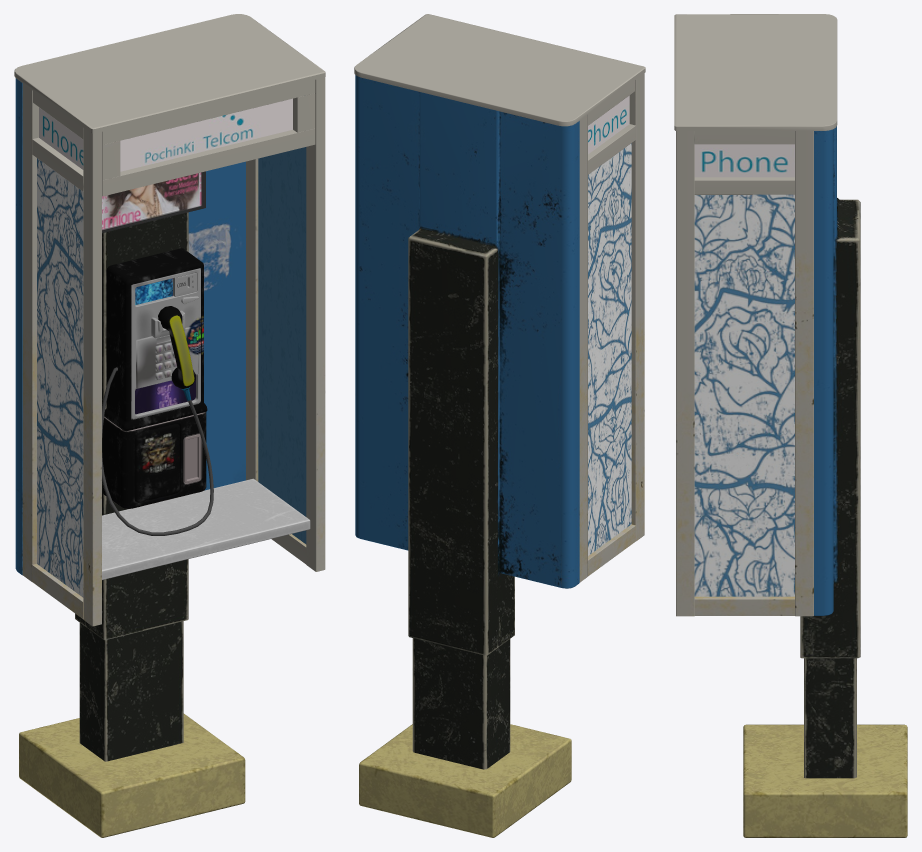
The model's file is phonebox.glb.
The picture shows the model from 3 angles, left to right: view 1: azimuth 30°, elevation 25°; view 2: azimuth 150°, elevation 25°; view 3: azimuth 270°, elevation 25°; orthographic projection. The views are drawn at different scales.
Visible parts, largest first — view 1: polySurface54; view 2: polySurface54; view 3: polySurface54.
Boxes of the visible parts, x1,y1,x2,y2 form: polySurface54: (14,14,325,837); polySurface54: (354,14,645,837); polySurface54: (674,14,907,837).
Bounding box in the file's own units: 0.657 × 2 × 0.5755.
1 material, 1 textured.
